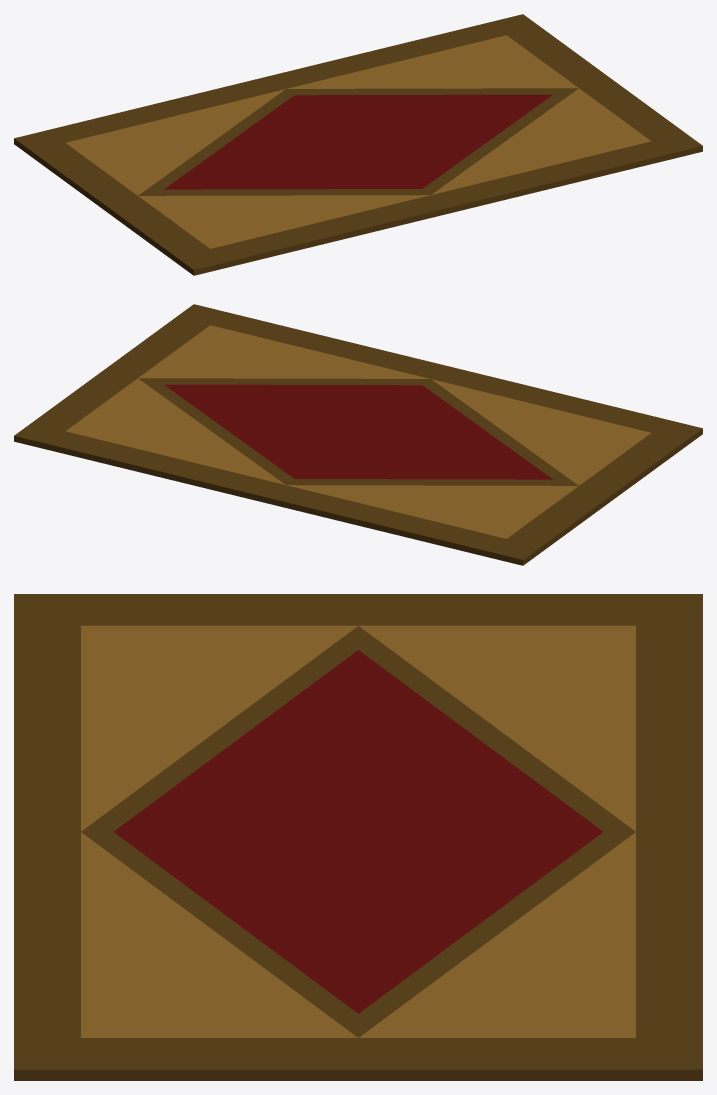
The model's file is Rug2.fbx.
3 renders of one model, top to bottom at view 1: azimuth 30°, elevation 25°; view 2: azimuth 150°, elevation 25°; view 3: azimuth 270°, elevation 25°, orthographic. The views are drawn at different scales.
Visible parts, largest first — view 1: Prop_Carpet_03; view 2: Prop_Carpet_03; view 3: Prop_Carpet_03.
Part boxes in pixels (left/top/right/bottom): Prop_Carpet_03: left=14, top=14, right=702, bottom=275; Prop_Carpet_03: left=14, top=304, right=702, bottom=565; Prop_Carpet_03: left=14, top=594, right=702, bottom=1080.
Size of the model in its own units: 175 by 1.92 by 107.
Materials: 1 (1 with a texture image).
